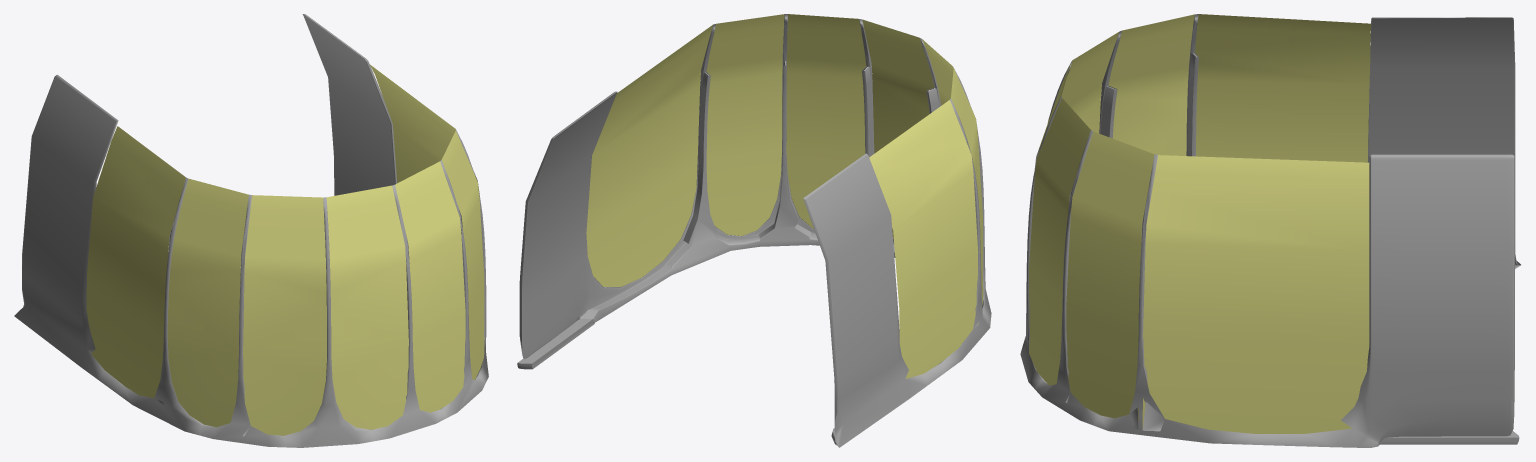
Rendered from Arena.fbx.
The picture shows the model from 3 angles, left to right: view 1: azimuth 30°, elevation 25°; view 2: azimuth 150°, elevation 25°; view 3: azimuth 270°, elevation 25°; orthographic projection. The views are drawn at different scales.
Parts seen in each view (by area): view 1: Arena4; view 2: Arena4; view 3: Arena4.
Boxes of the visible parts, left/top/right/bottom form: Arena4: left=14, top=14, right=488, bottom=447; Arena4: left=517, top=14, right=991, bottom=447; Arena4: left=1020, top=14, right=1520, bottom=447.
Bounding box in the file's own units: 36.3 × 25.34 × 42.16.
